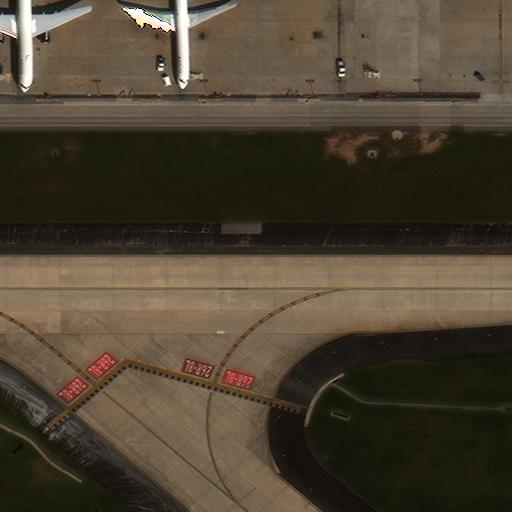Large Civil Transport: (0, 0, 91, 92)
Medium Civil Transport: (122, 0, 235, 90)
